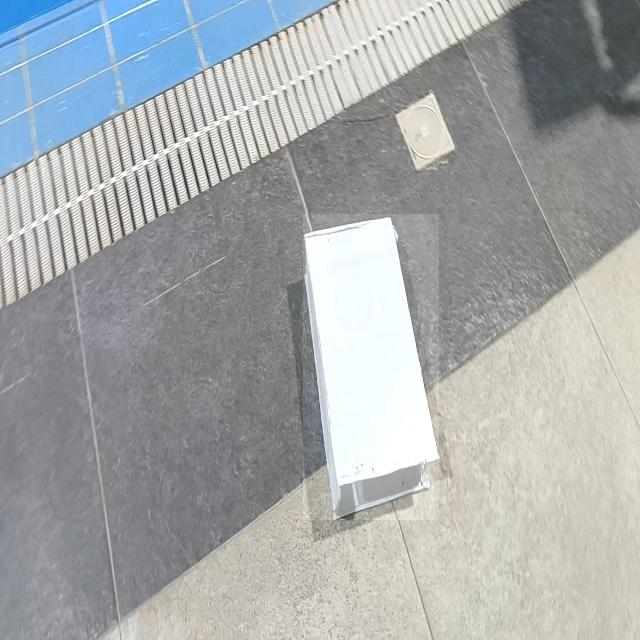Cuboid: (304, 214, 439, 520)
